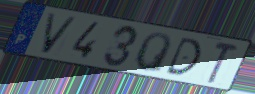3: (102, 24, 140, 69)
4: (69, 21, 101, 61)
D: (163, 36, 203, 77)
Q: (131, 32, 173, 75)
T: (206, 40, 240, 85)
V: (40, 11, 80, 56)
